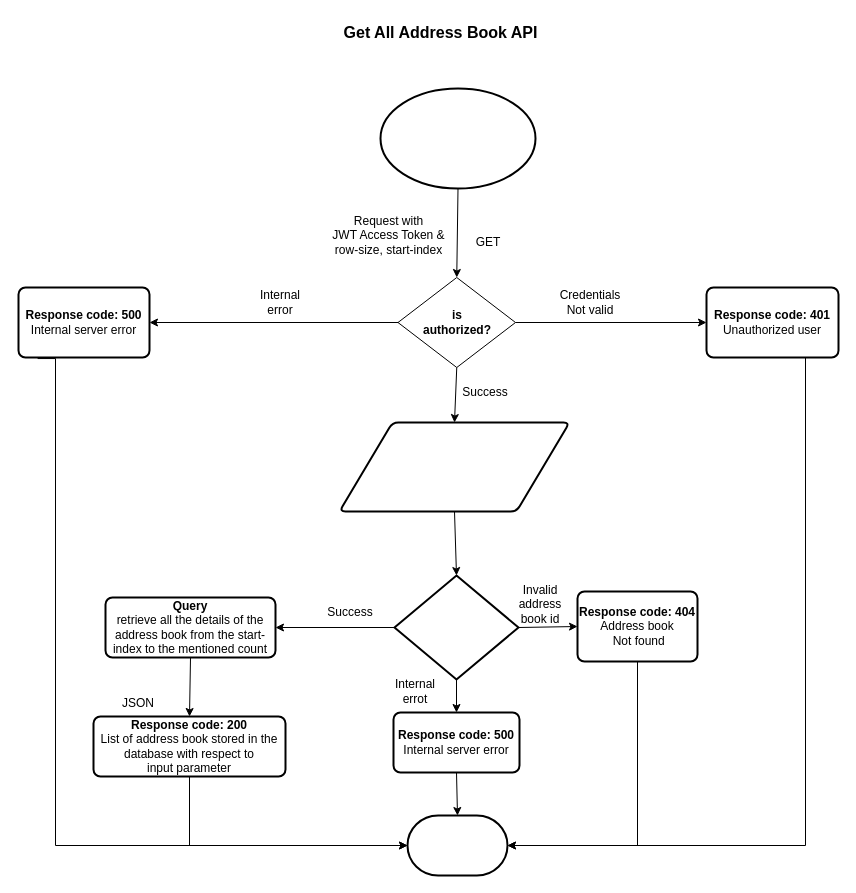
Image size: 856x893. Some labels were removed from this diagram. Here are the shapes that lost their labels. From the top down, the centre of each, then its label:
the point at 457,138: Start /api/address-book
the point at 454,466: User input Get the row-size & start-index row-size: integer start-index: integer
the point at 456,627: Validate is the address book exists?
the point at 457,845: Stop
